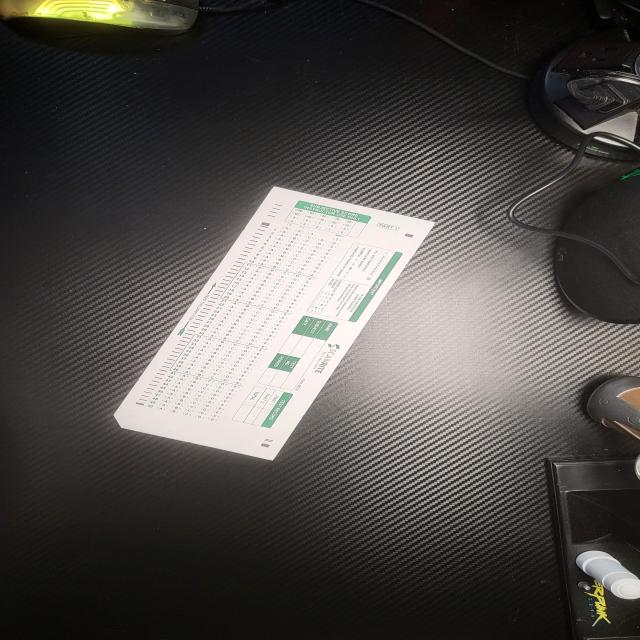scantron: (114, 185, 439, 463)
